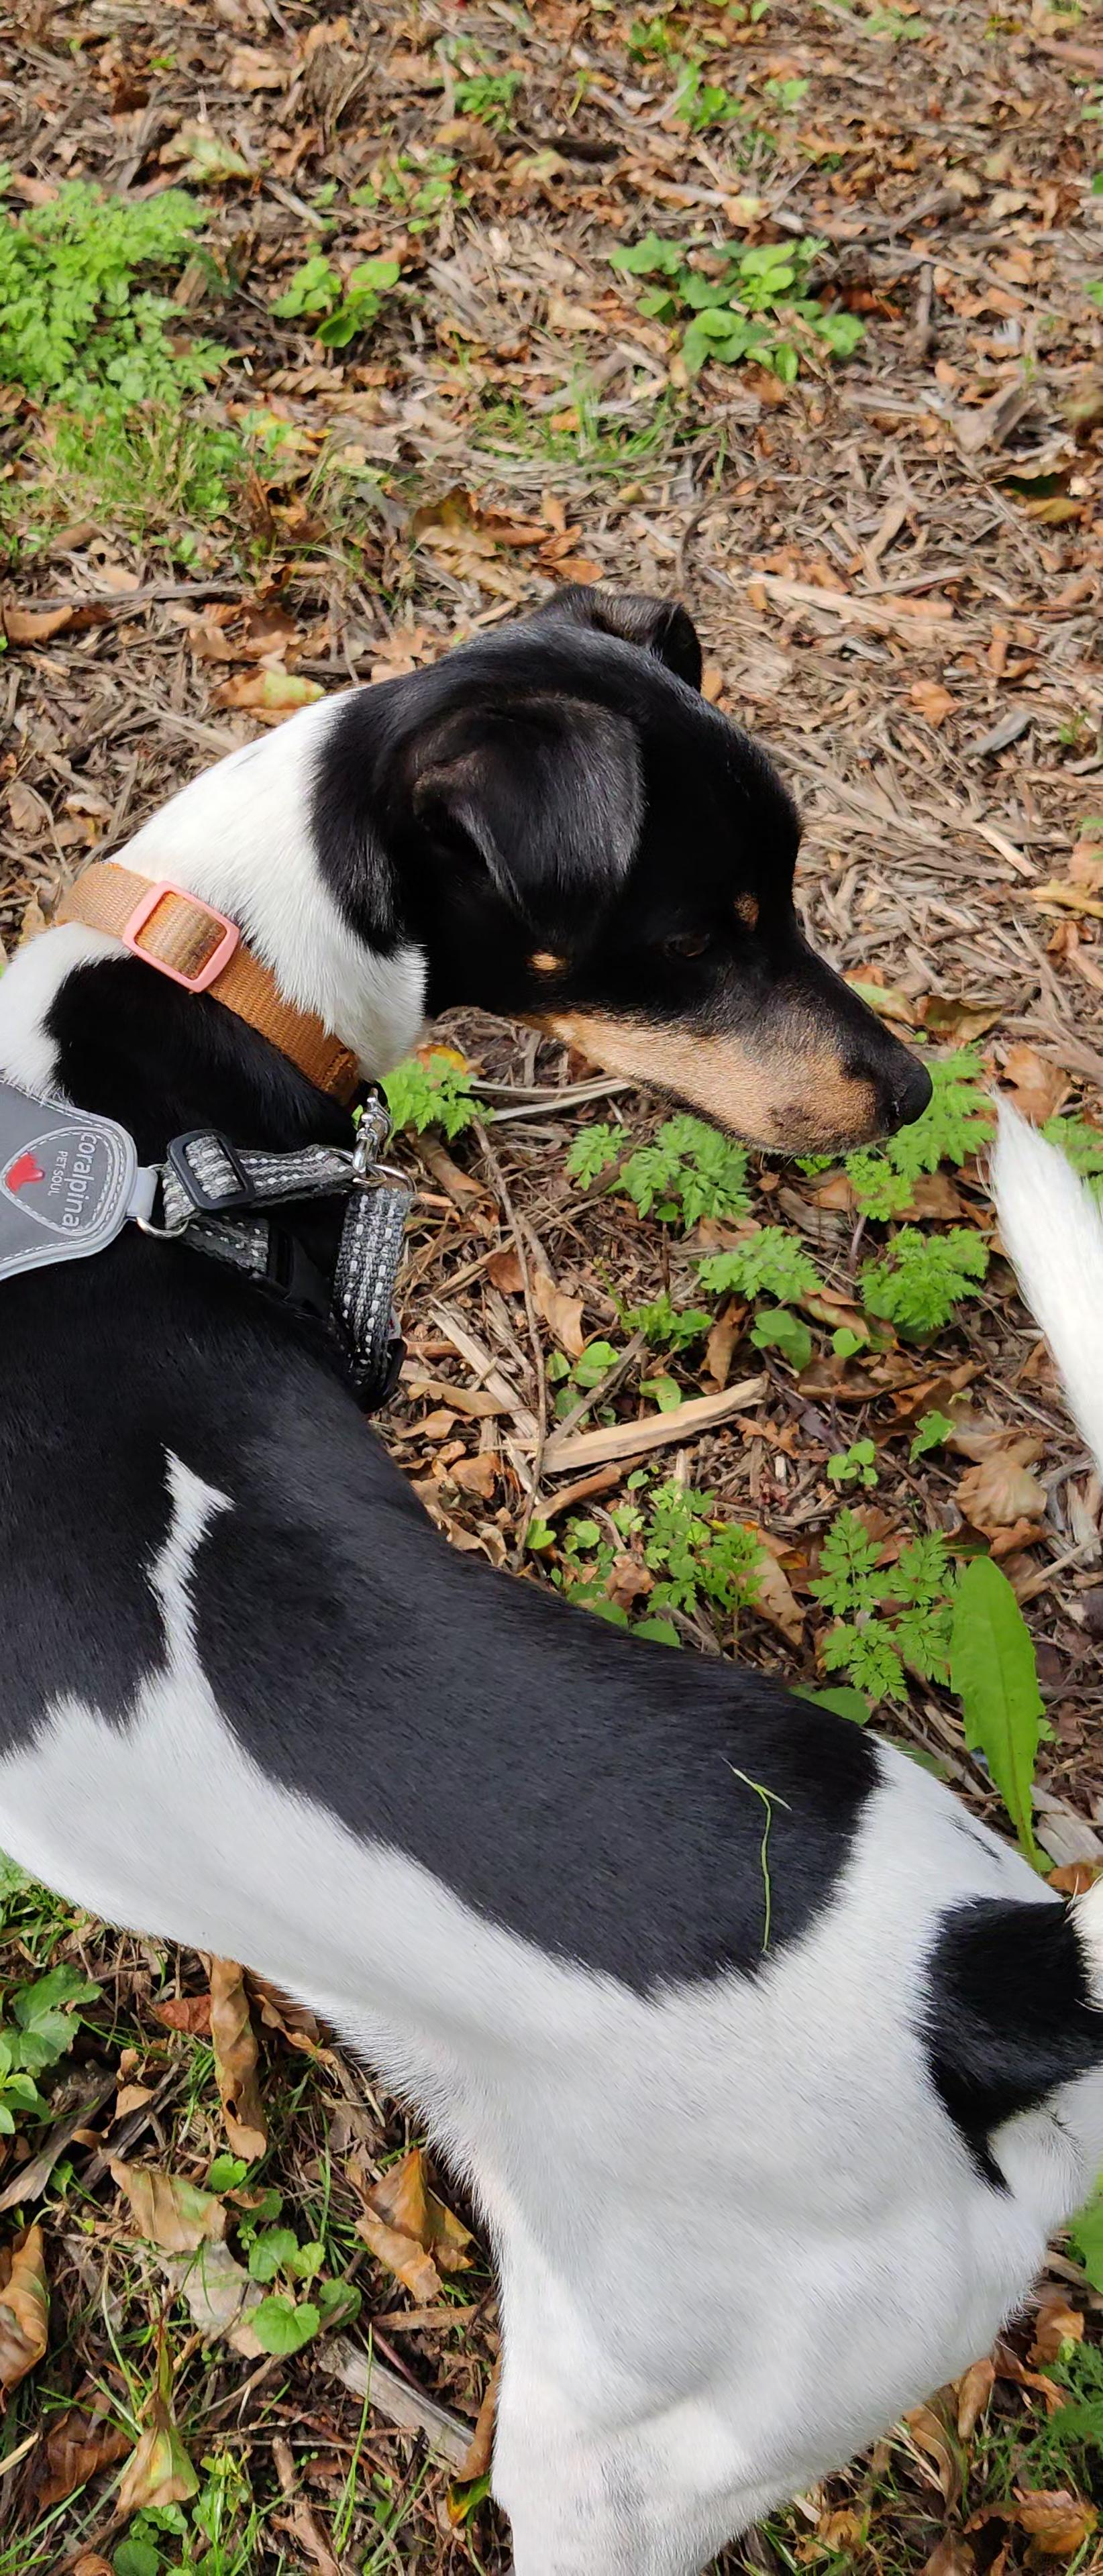Dog: (0, 559, 1103, 2576)
